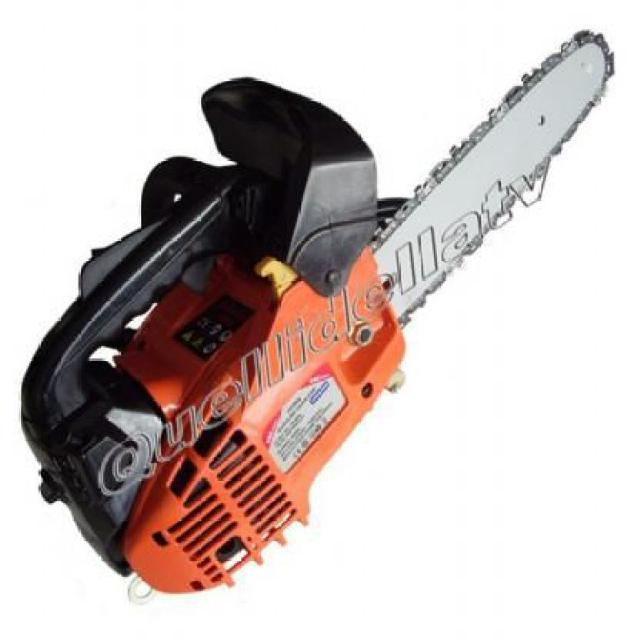Chainsaw: (22, 24, 616, 604)
